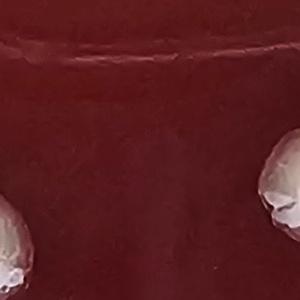colony: (251, 121, 300, 251), (0, 184, 47, 300)
